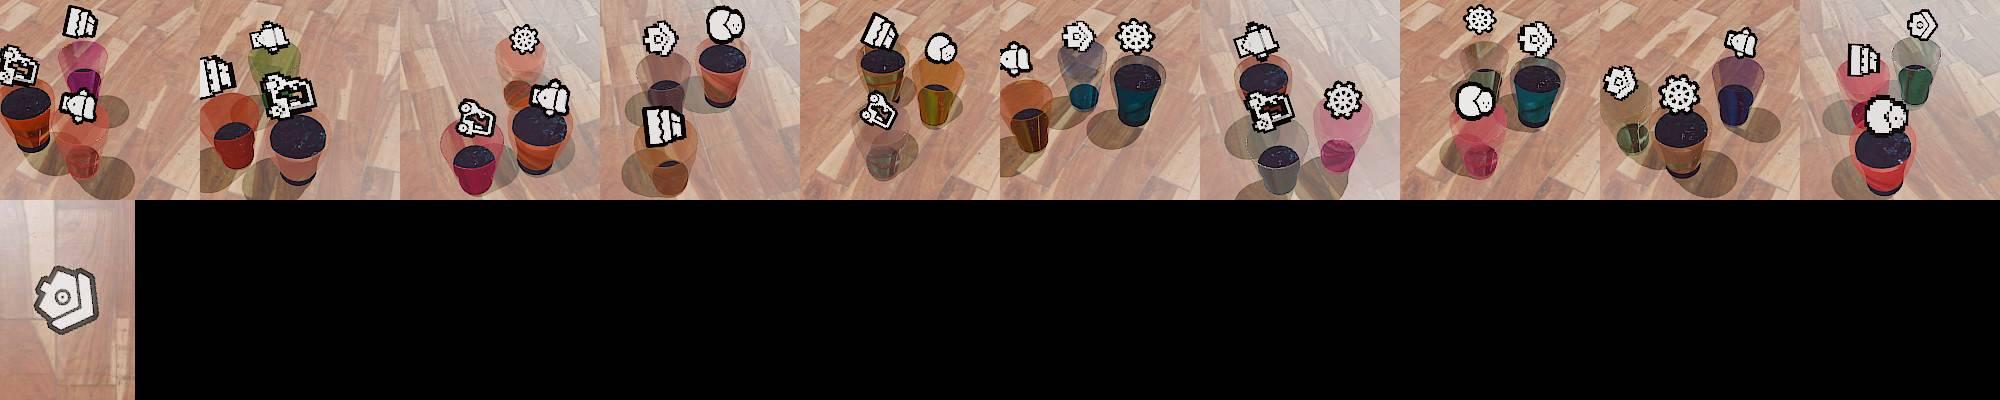icon: (32, 264, 101, 335), (260, 70, 317, 120), (1243, 89, 1294, 133), (1861, 95, 1909, 138), (641, 104, 686, 148), (1235, 20, 1280, 62), (1452, 79, 1497, 121), (1658, 72, 1702, 114), (0, 43, 41, 88), (529, 76, 570, 119), (198, 54, 237, 98), (456, 97, 496, 139), (1322, 80, 1364, 120), (1516, 19, 1556, 59), (859, 89, 898, 130), (860, 12, 899, 53), (1114, 18, 1155, 55), (1601, 64, 1639, 103), (705, 6, 744, 44), (58, 88, 98, 125), (249, 19, 290, 54), (642, 19, 678, 58), (998, 41, 1033, 78), (62, 5, 98, 40), (1060, 19, 1096, 52), (1723, 26, 1759, 59), (924, 31, 958, 64), (1463, 4, 1496, 38), (1847, 43, 1880, 77), (1906, 9, 1938, 41), (509, 23, 540, 56)
